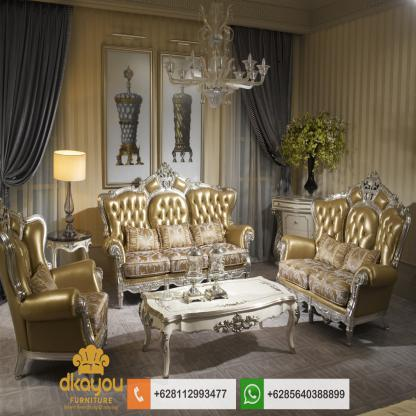bantal: (123, 227, 159, 249), (158, 225, 194, 246), (195, 223, 224, 241)
lampu-: (53, 149, 85, 235)
meja: (135, 276, 306, 353)
sova: (2, 204, 109, 374), (280, 191, 400, 339), (97, 173, 253, 285)
tanaman: (281, 118, 337, 198)
